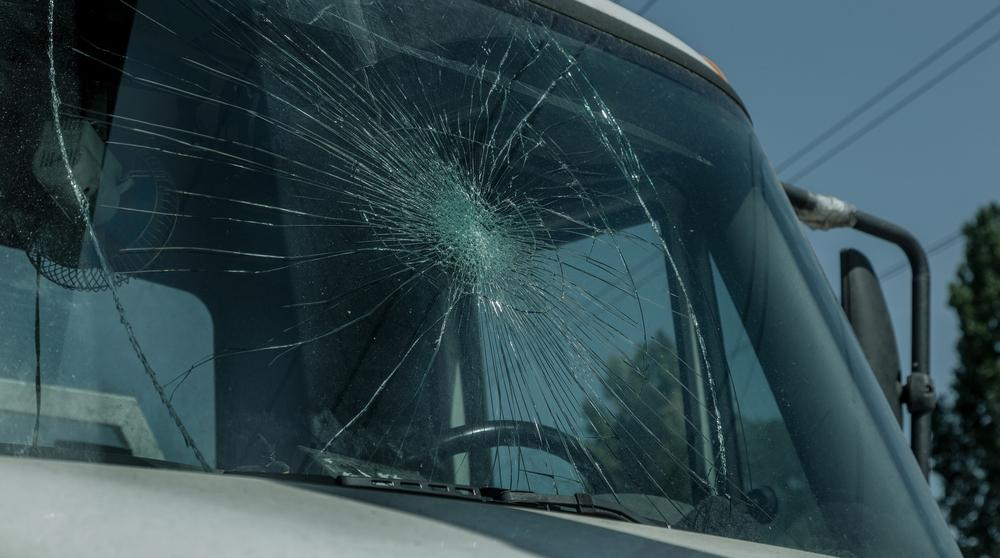glass shatter: (0, 0, 964, 558)
